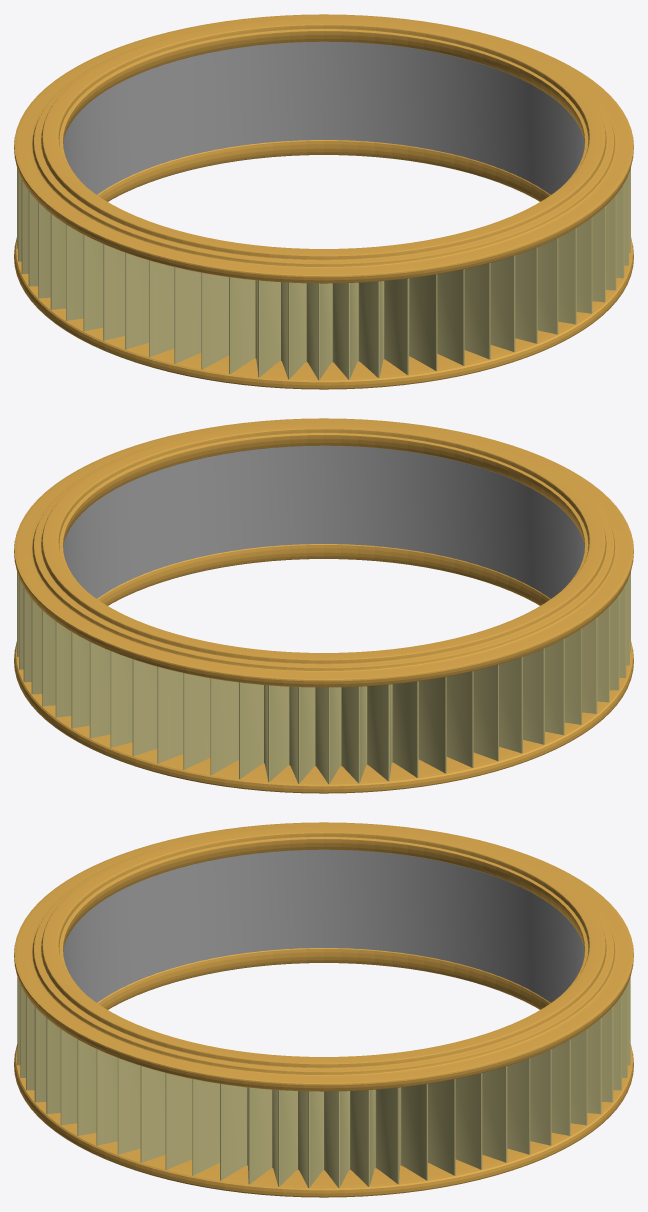
File: AirFilter.fbx
3 renders of one model, top to bottom at view 1: azimuth 30°, elevation 25°; view 2: azimuth 150°, elevation 25°; view 3: azimuth 270°, elevation 25°, orthographic.
Visible parts, largest first — view 1: _1_01; view 2: _1_01; view 3: _1_01.
Part boxes in pixels (x1,y1,x2,y2): _1_01: [14, 14, 633, 389]; _1_01: [14, 418, 633, 793]; _1_01: [14, 822, 633, 1197].
Size of the model in its own units: 0.2396 by 0.0558 by 0.2396.
